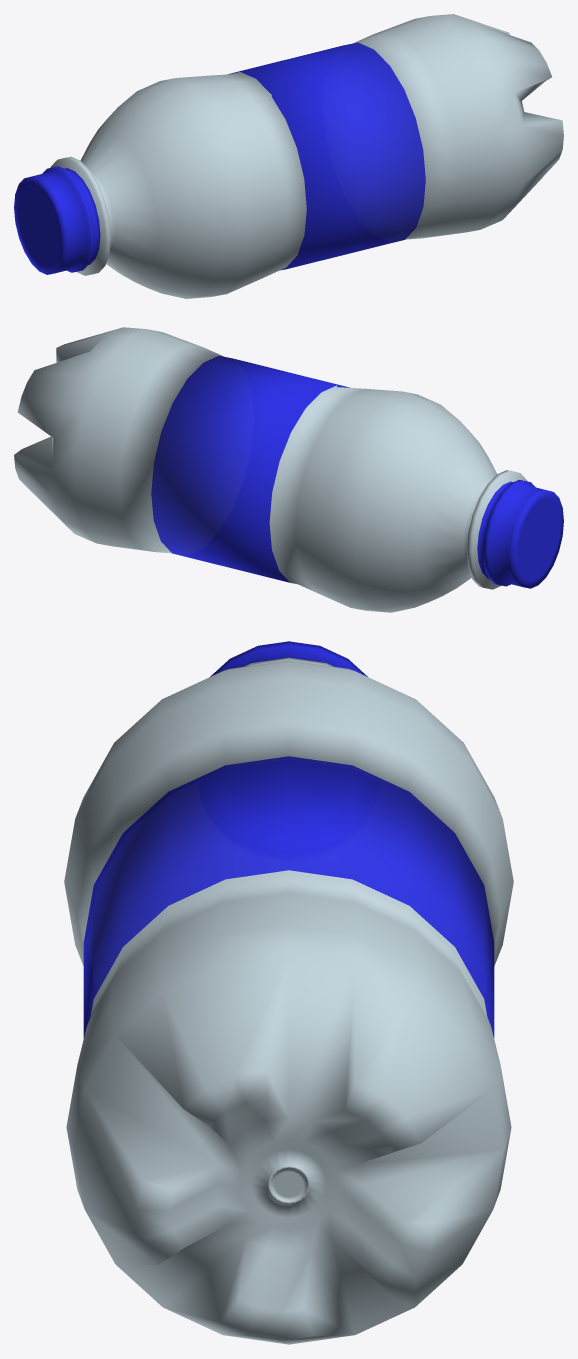
File: Bottle_Horizontal.fbx
3 renders of one model, top to bottom at view 1: azimuth 30°, elevation 25°; view 2: azimuth 150°, elevation 25°; view 3: azimuth 270°, elevation 25°, orthographic. The views are drawn at different scales.
Parts seen in each view (by area): view 1: Plastic Bottle - Horizontal; view 2: Plastic Bottle - Horizontal; view 3: Plastic Bottle - Horizontal.
Part boxes in pixels (x1=…): Plastic Bottle - Horizontal: x1=14, y1=14, x2=563, y2=298; Plastic Bottle - Horizontal: x1=14, y1=327, x2=563, y2=612; Plastic Bottle - Horizontal: x1=64, y1=641, x2=513, y2=1344.
Size of the model in its own units: 321 by 128 by 128.
